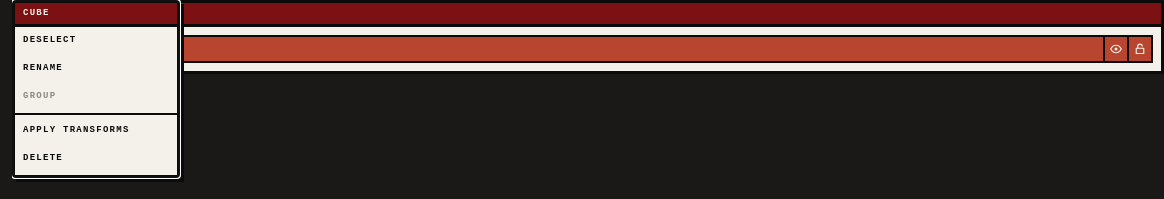
Outliner › row menu › starts a rename in place
Click the menu item "RENAME" at (96, 69), box [15,55,177,83]
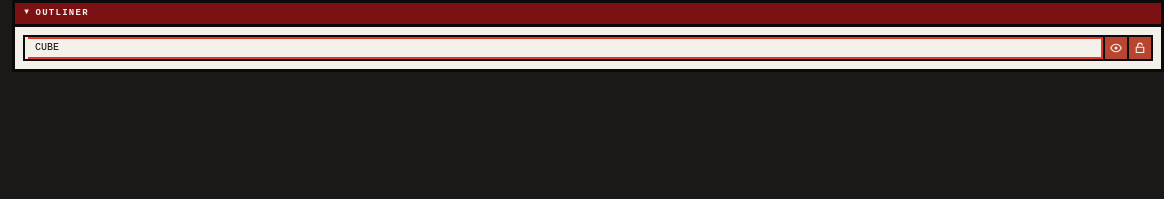
expect the field showing "CUBE" is shown: met, box [25,37,1103,59]
